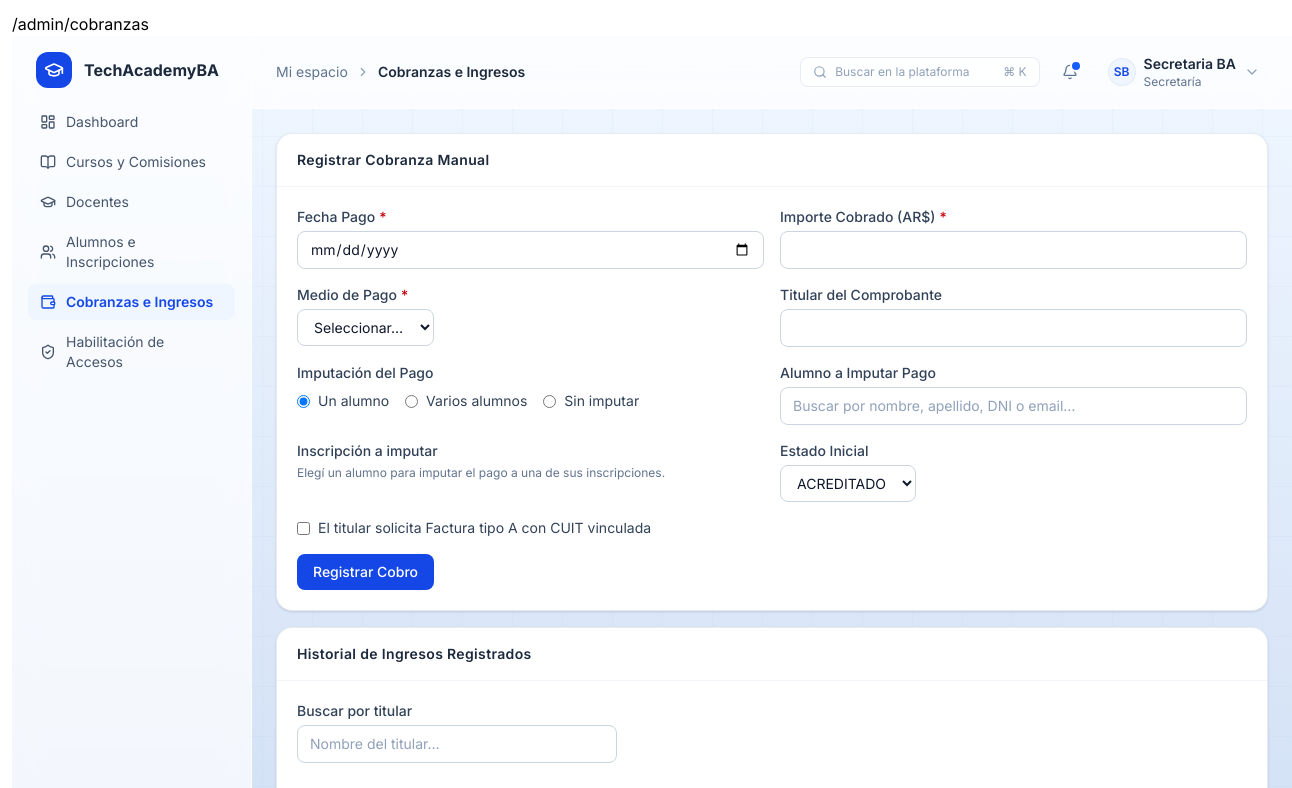
Test: formulario de registro › vuelve al buscador con Cambiar sin perder el resto del formulario
The width and height of the screenshot is (1292, 788).
Expected: the heading "Historial de Ingresos Registrados" is shown, x1=297 y1=644 x2=532 y2=664
In the field labelled "Titular del Comprobante": (1014, 328) x1=780 y1=309 x2=1247 y2=347, type "Familiar de Valeria"
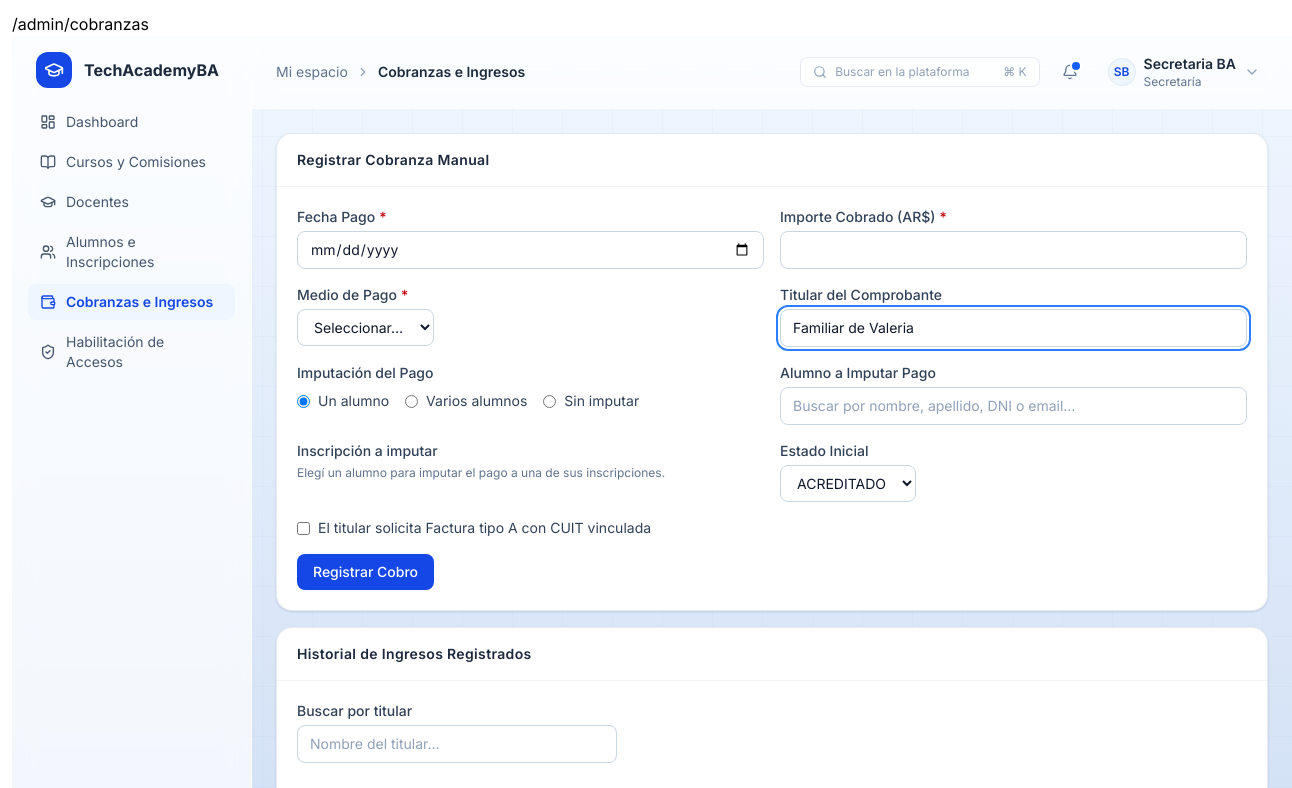
In the dropdown labelled "Alumno a Imputar Pago": (1014, 406) x1=780 y1=387 x2=1247 y2=425, type "Valeria"
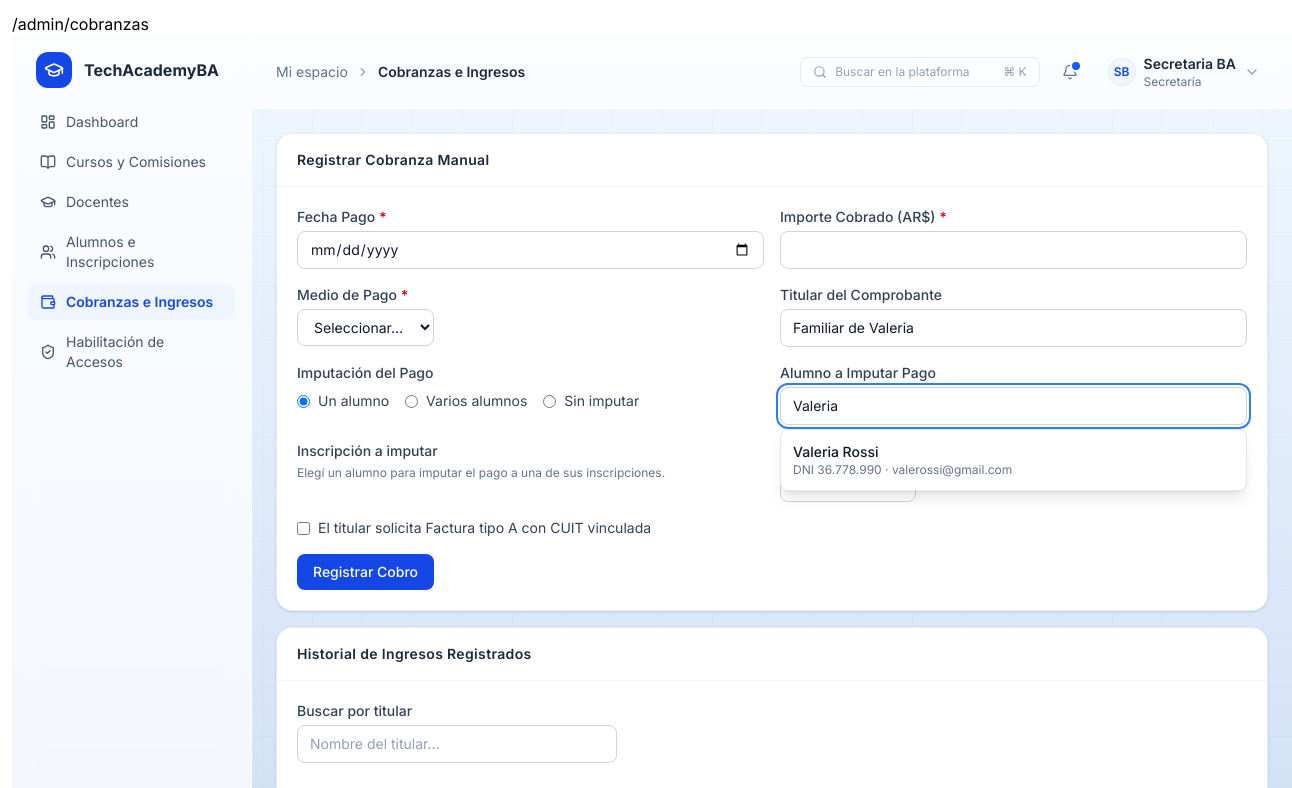
Click the option "Valeria Rossi DNI 36.778.990 · valerossi@gmail.com": click(903, 460) x1=793 y1=443 x2=1012 y2=477
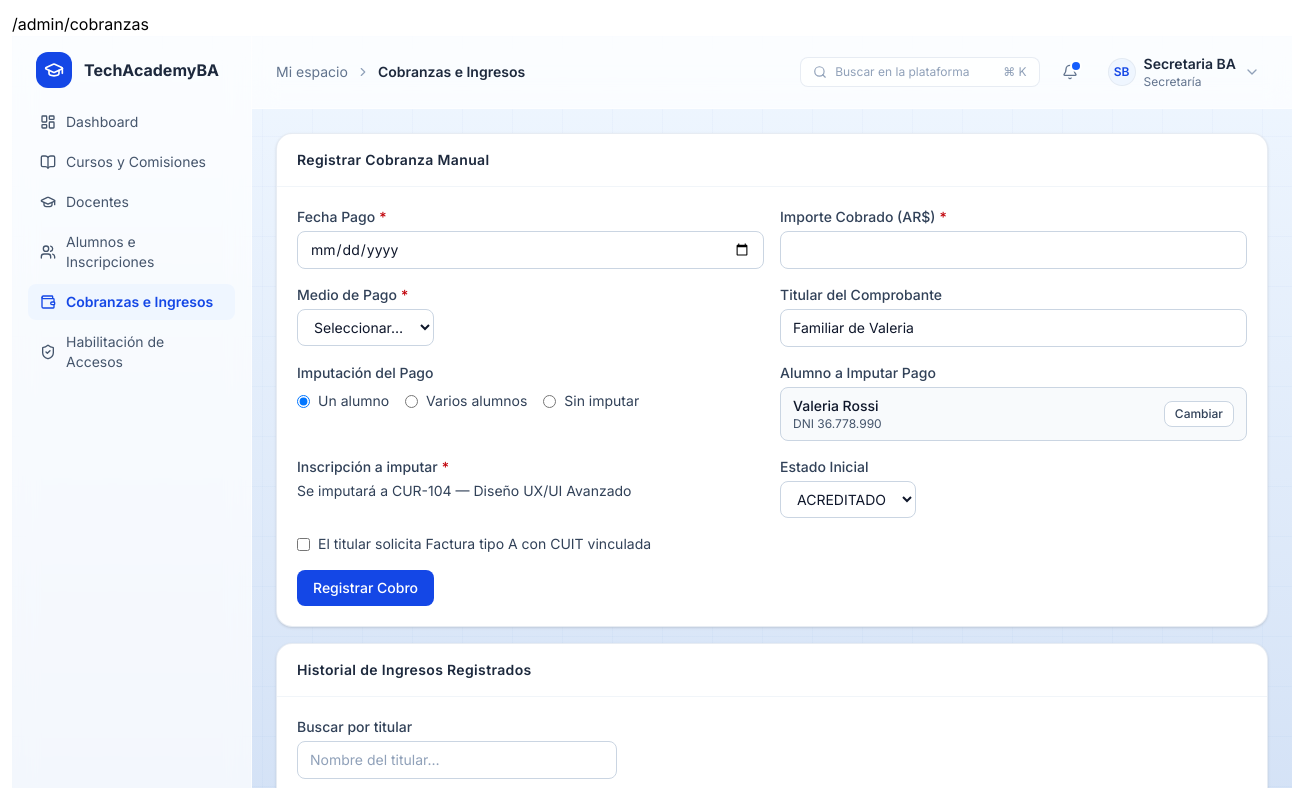
Click the button "Cambiar": click(1199, 414) x1=1164 y1=401 x2=1234 y2=427
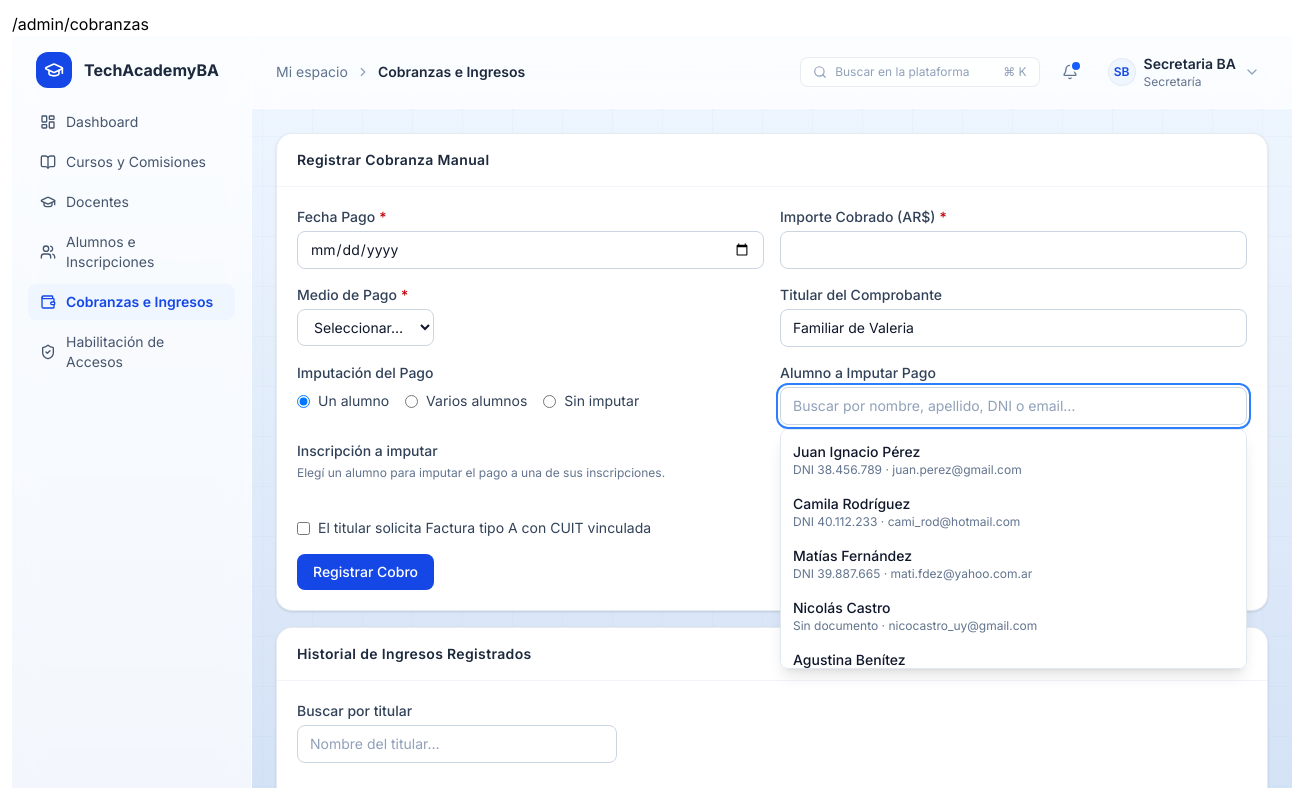
Result: the button "Cambiar" is gone
